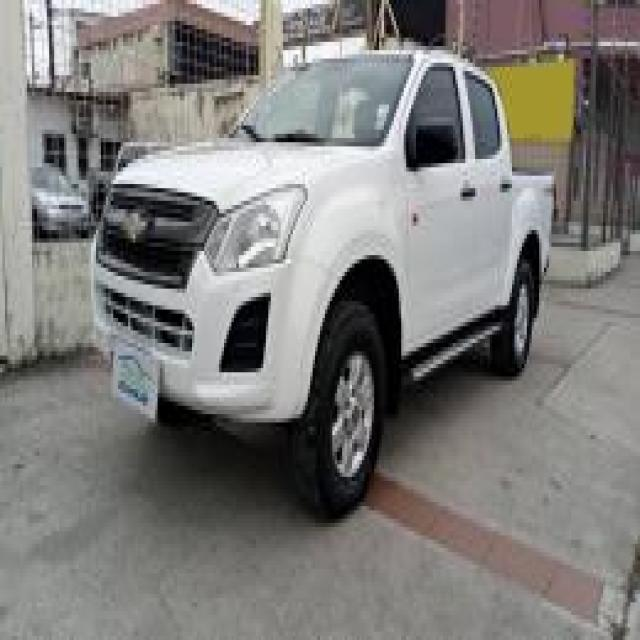CMT: (93, 44, 540, 474)
